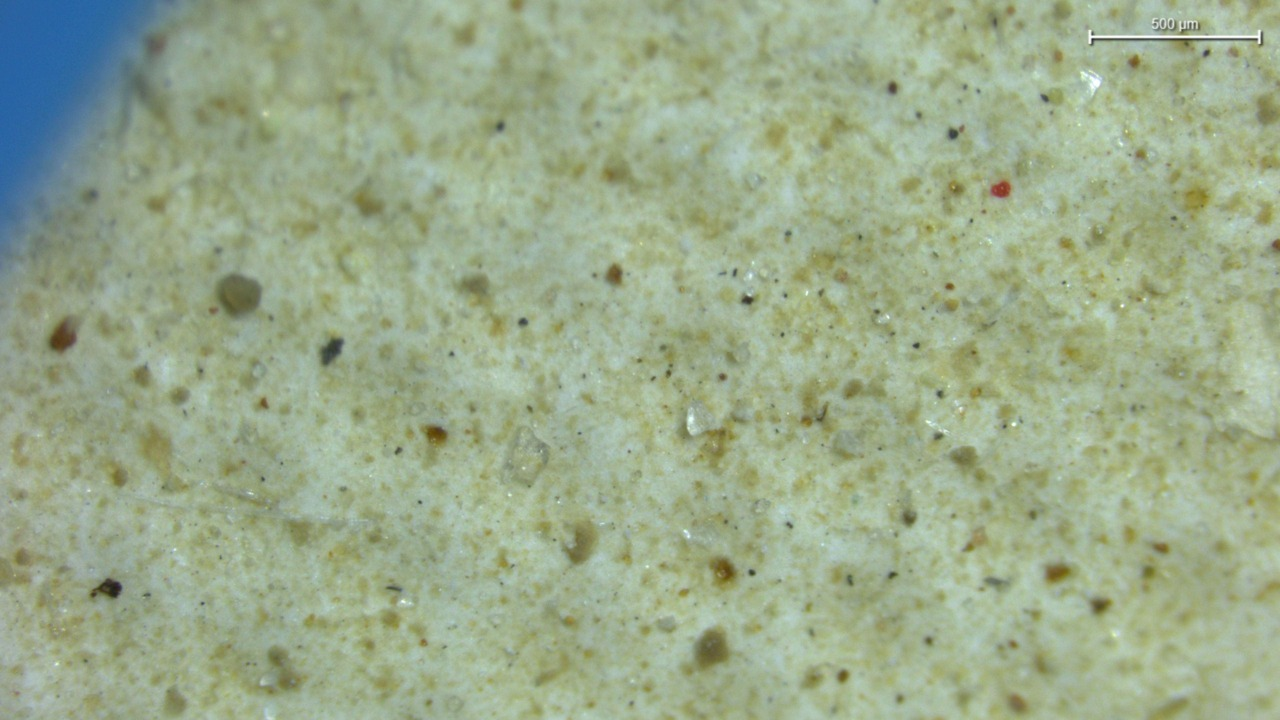microplastic_fragment: (686, 400, 721, 436), (831, 429, 864, 457)
